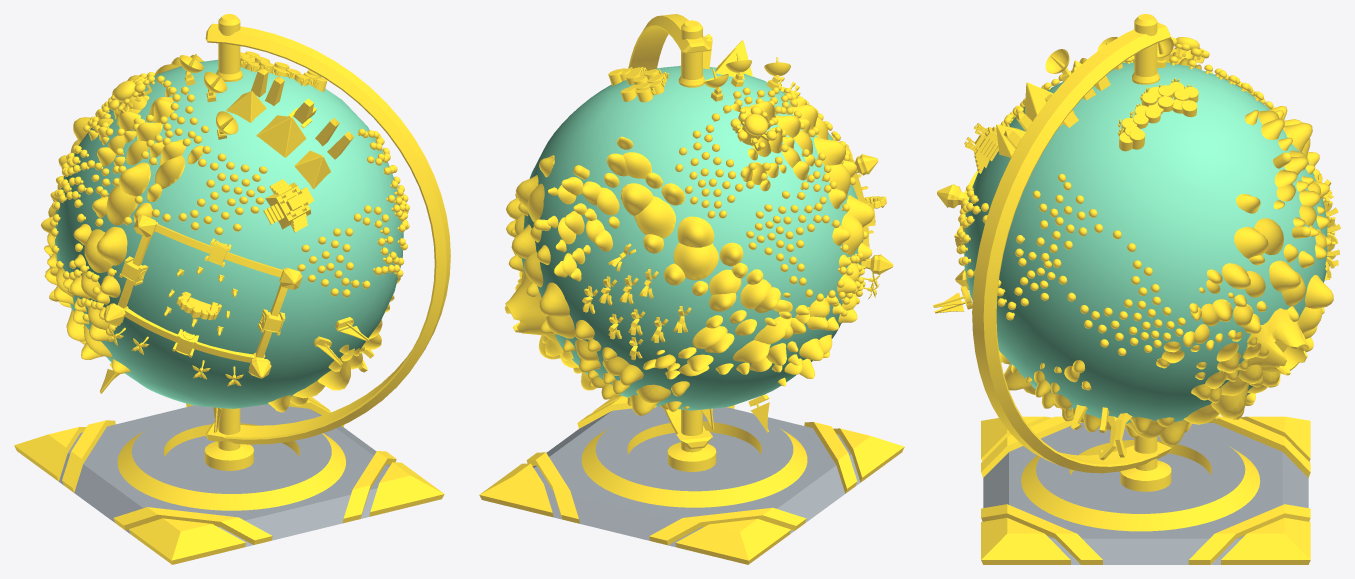
File: Globe6.fbx
3 views of the same model, side by side, from view 1: azimuth 30°, elevation 25°; view 2: azimuth 150°, elevation 25°; view 3: azimuth 270°, elevation 25° (orthographic). The views are drawn at different scales.
Visible parts, largest first — view 1: globe_6, deets, Globe6, arc_arm, stand, spinning_shaft; view 2: deets, globe_6, Globe6, stand, spinning_shaft, arc_arm; view 3: globe_6, deets, Globe6, arc_arm, stand, spinning_shaft.
Part boxes in pixels (<box>): globe_6: <box>55,59,403,408</box>; deets: <box>41,51,409,432</box>; Globe6: <box>14,397,444,564</box>; arc_arm: <box>205,23,450,444</box>; stand: <box>117,409,345,510</box>; spinning_shaft: <box>204,14,253,470</box>; deets: <box>504,34,893,432</box>; globe_6: <box>521,66,863,410</box>; Globe6: <box>479,395,904,564</box>; stand: <box>581,408,807,507</box>; spinning_shaft: <box>667,20,716,471</box>; arc_arm: <box>628,14,712,449</box>; globe_6: <box>964,62,1327,425</box>; deets: <box>933,37,1340,460</box>; Globe6: <box>981,416,1310,564</box>; arc_arm: <box>972,22,1171,473</box>; stand: <box>1021,427,1259,531</box>; spinning_shaft: <box>1120,14,1171,491</box>.
Bounding box in the file's own units: 0.8892 × 1.21 × 0.9367.
